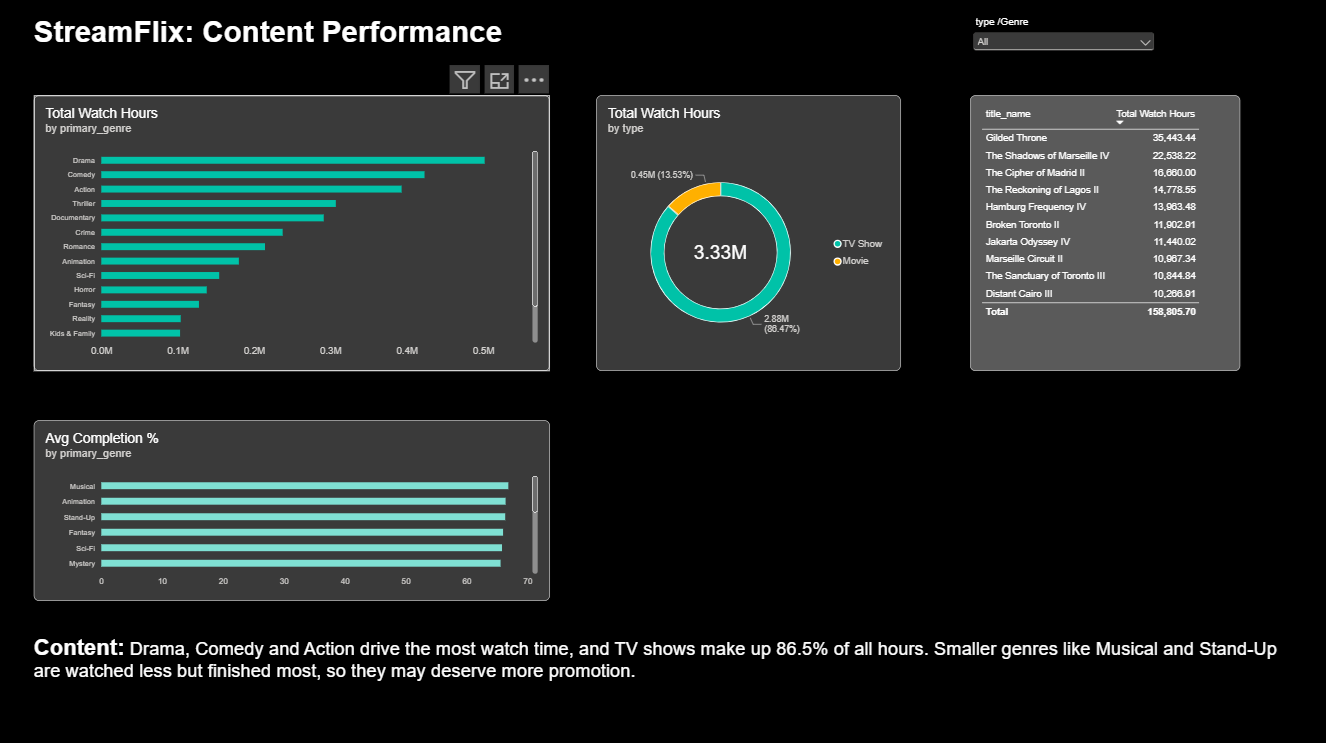

This screenshot's page, from the dashboard's own definition file:
{"tool":"powerbi","page":{"name":"Content","canvas":[1920,1080],"ordinal":1},"visuals":[{"type":"textbox","box":[10,0,280,280],"z":0},{"type":"clusteredBarChart","fields":{"Category":["clean_titles.primary_genre"],"Y":["clean_watch_history.Total Watch Hours"]},"box":[49.4,140,747.2,399.3],"z":1},{"type":"donutChart","fields":{"Category":["clean_titles.type"],"Y":["clean_watch_history.Total Watch Hours"]},"box":[862.4,140,440.5,399.3],"z":2},{"type":"clusteredBarChart","fields":{"Category":["clean_titles.primary_genre"],"Y":["clean_watch_history.Avg Completion %"]},"box":[49.4,609.3,747.2,261.4],"z":3},{"type":"tableEx","fields":{"Values":["clean_titles.title_name","clean_watch_history.Total Watch Hours"]},"box":[1403.8,140,391.1,399.3],"z":4},{"type":"slicer","fields":{"Values":["clean_titles.type","clean_titles.primary_genre"]},"box":[1403.8,22.6,271.7,76.2],"z":5},{"type":"textbox","box":[49.4,22.6,747.2,76.2],"z":6},{"type":"textbox","box":[49.4,905.7,1840.1,175],"z":7}]}

Visuals, with their boxes in screenshot pixels (x1, y1, x2, y2), scaled from the page's 1920x1080 canvas onto the 1326x743 screenshot:
textbox: bbox=(7, 0, 200, 193)
clusteredBarChart - clean_titles.primary_genre x clean_watch_history.Total Watch Hours: bbox=(34, 96, 550, 371)
donutChart - clean_titles.type x clean_watch_history.Total Watch Hours: bbox=(596, 96, 900, 371)
clusteredBarChart - clean_titles.primary_genre x clean_watch_history.Avg Completion %: bbox=(34, 419, 550, 599)
tableEx - clean_titles.title_name x clean_watch_history.Total Watch Hours: bbox=(969, 96, 1240, 371)
slicer - clean_titles.type x clean_titles.primary_genre: bbox=(969, 16, 1157, 68)
textbox: bbox=(34, 16, 550, 68)
textbox: bbox=(34, 623, 1305, 742)
